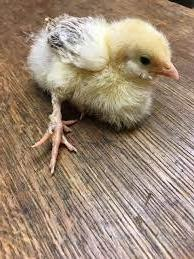AbNormal: (30, 6, 183, 169)
